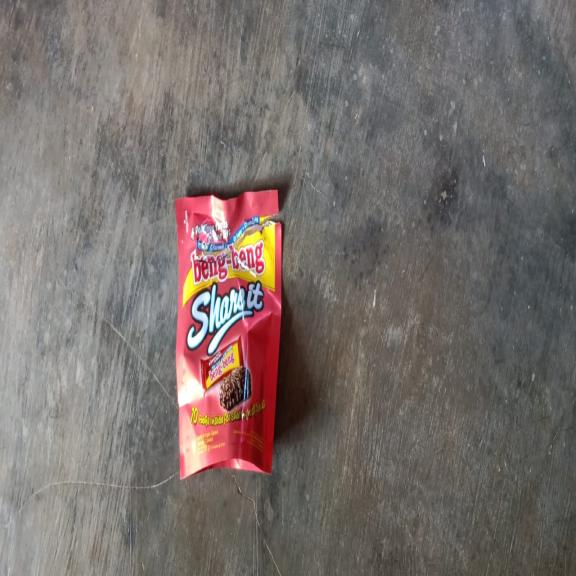Plastik: (174, 190, 284, 482)
